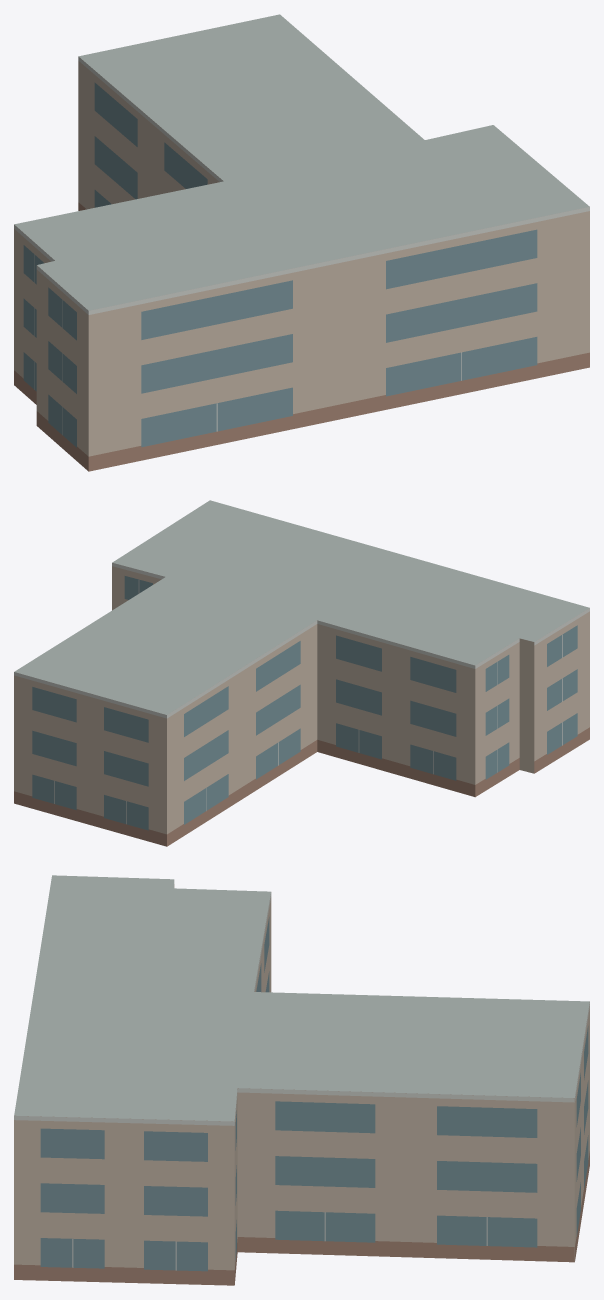
Rendered from survey-upis-32978505.glb.
The picture shows the model from 3 angles, top to bottom: view 1: azimuth 30°, elevation 25°; view 2: azimuth 150°, elevation 25°; view 3: azimuth 270°, elevation 25°; orthographic projection. The views are drawn at different scales.
Parts seen in each view (by area): view 1: survey-upis-32978505.tmp; view 2: survey-upis-32978505.tmp; view 3: survey-upis-32978505.tmp.
Boxes of the visible parts, x1,y1,x2,y2 form: survey-upis-32978505.tmp: (14, 14, 589, 471); survey-upis-32978505.tmp: (14, 500, 589, 846); survey-upis-32978505.tmp: (14, 875, 589, 1285).
Bounding box in the file's own units: 29.45 × 9.15 × 29.1.
